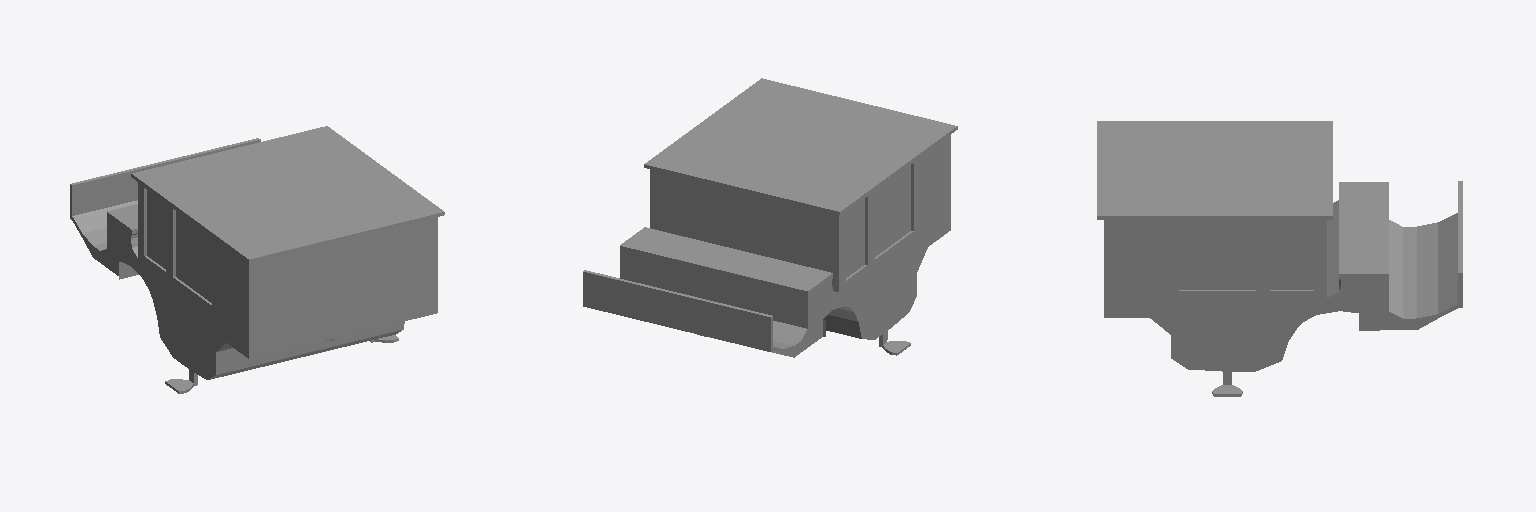
File: Wagon.obj
The picture shows the model from 3 angles: view 1: azimuth 30°, elevation 25°; view 2: azimuth 150°, elevation 25°; view 3: azimuth 270°, elevation 25°; orthographic projection.
Visible parts, largest first — view 1: Wagon; view 2: Wagon; view 3: Wagon.
Part boxes in pixels (bbox=[...]): Wagon: bbox=[70, 126, 444, 393]; Wagon: bbox=[583, 78, 957, 357]; Wagon: bbox=[1097, 121, 1462, 396].
Size of the model in its own units: 2.46 by 1.87 by 3.54.